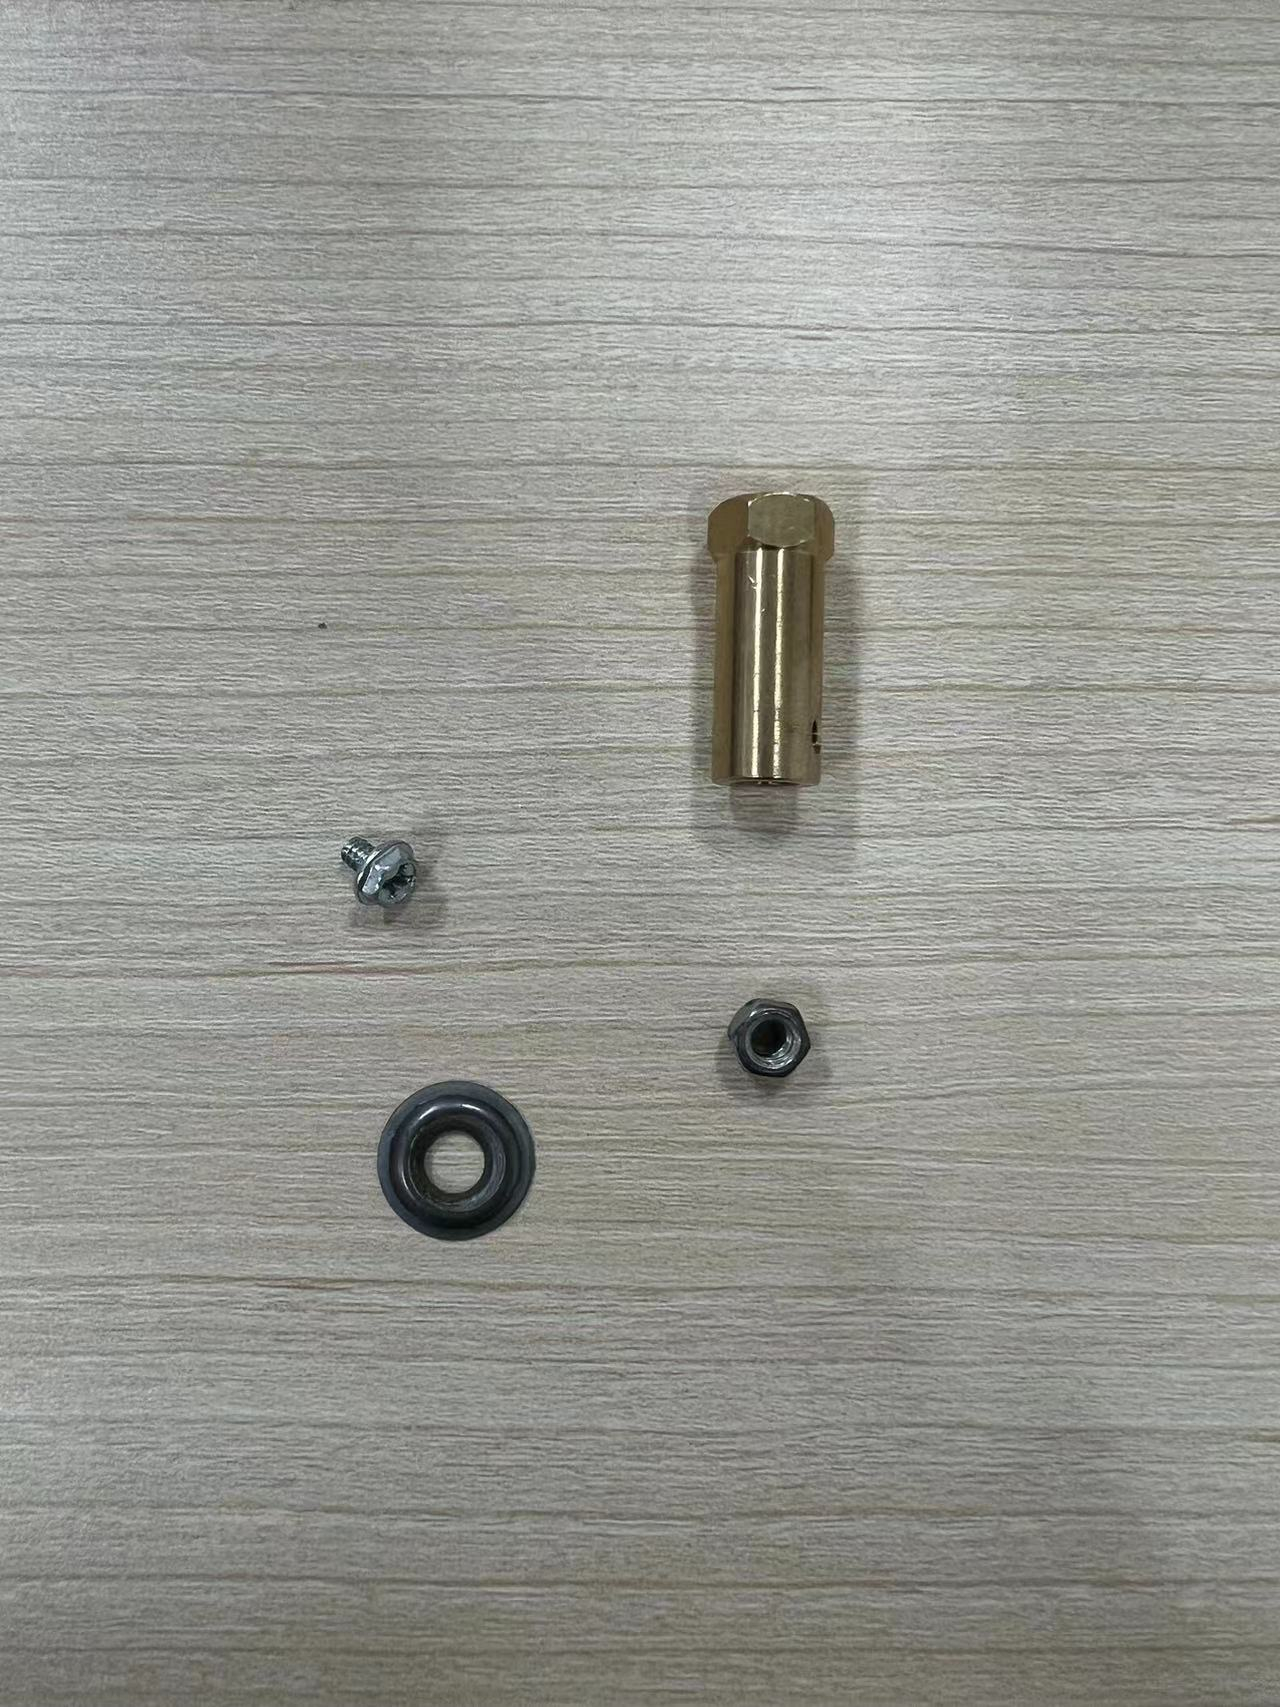Hexagon nut: (713, 984, 826, 1093)
Hexagon pillar: (678, 484, 854, 794)
Hexagon screw: (316, 813, 453, 926)
Spring washer: (360, 1060, 553, 1258)
